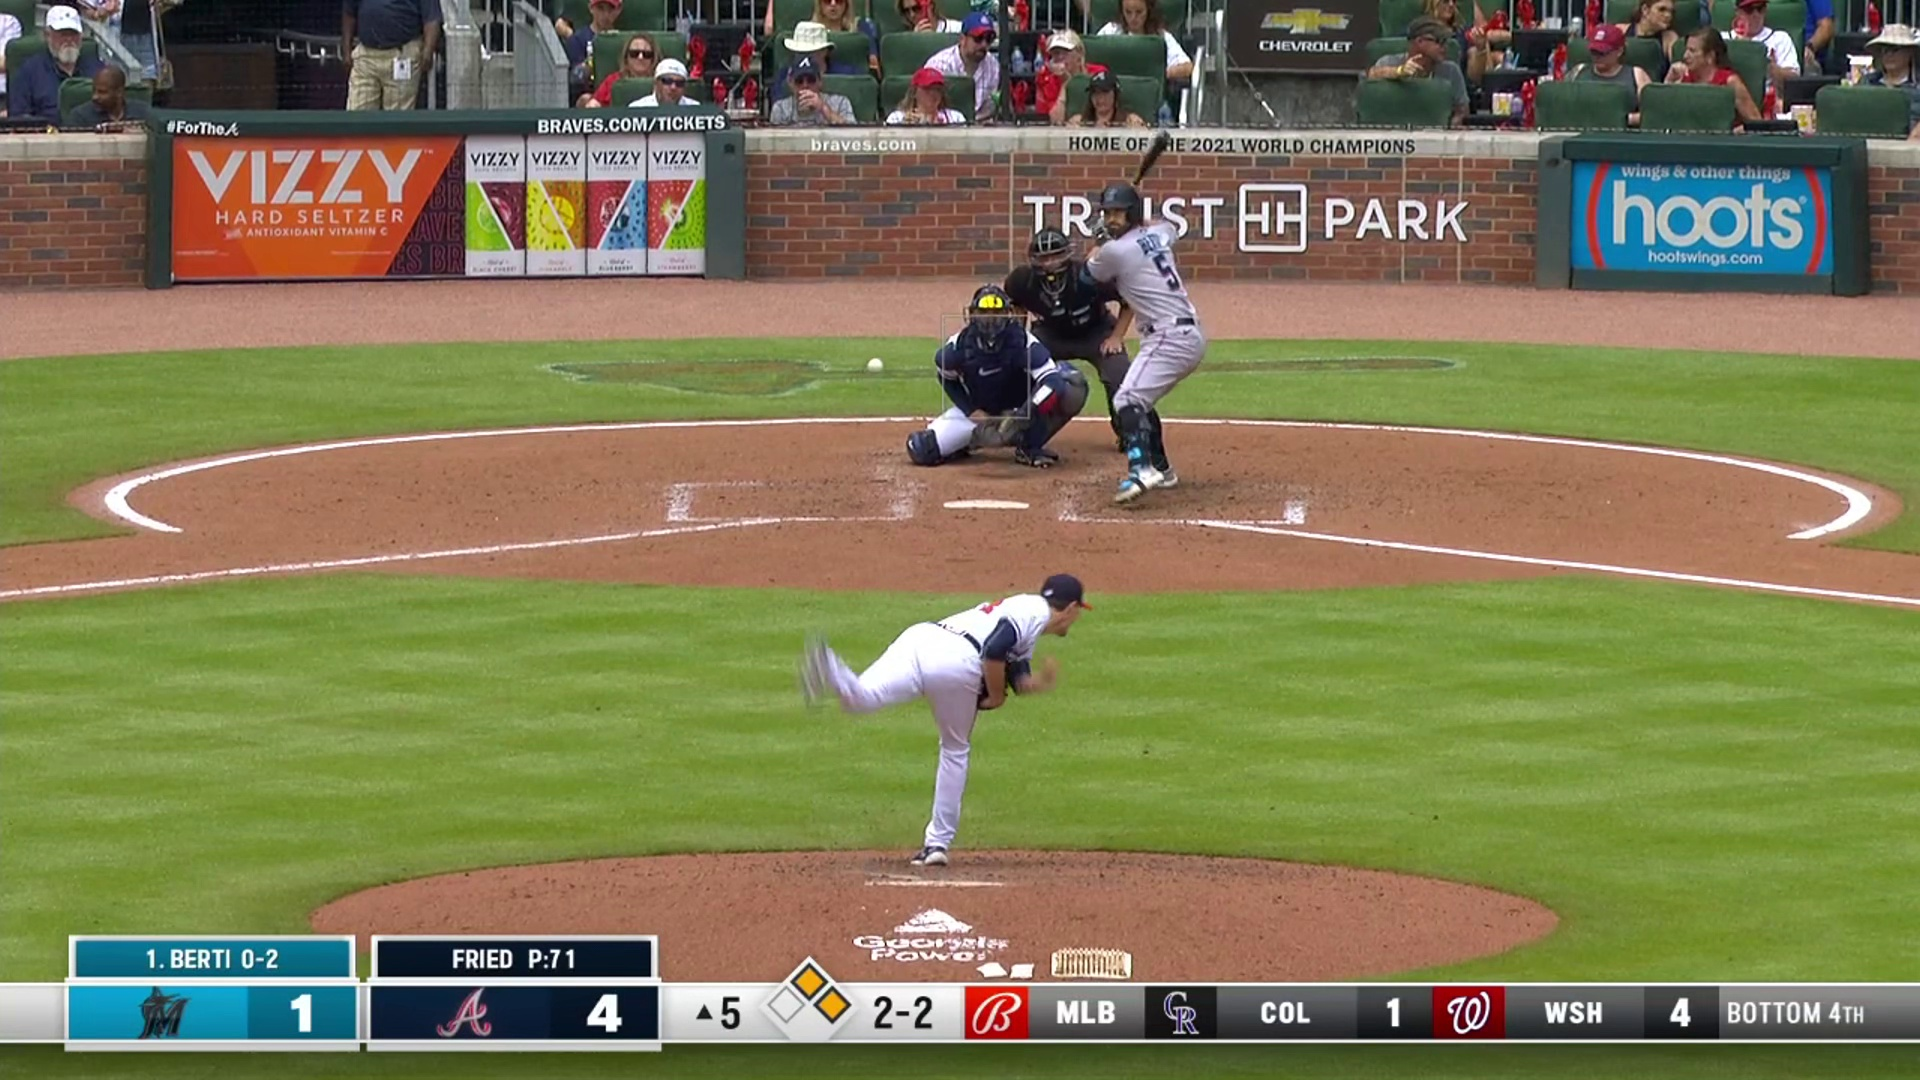baseball: (866, 357, 882, 373)
